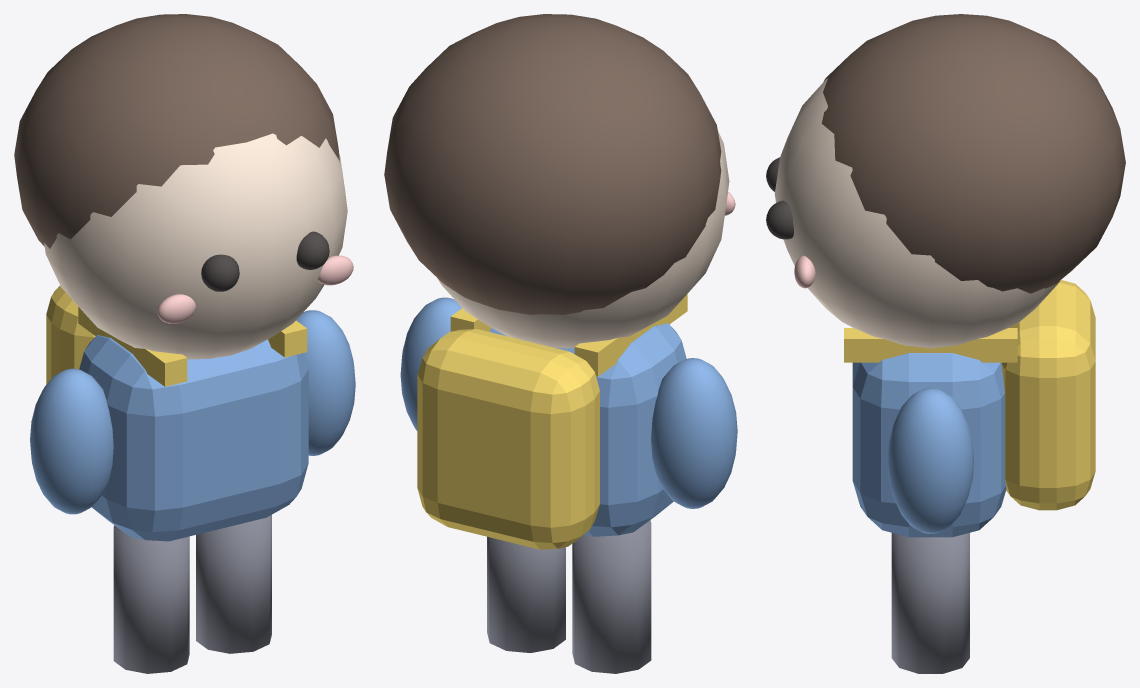
Rendered from player.glb.
The picture shows the model from 3 angles, left to right: view 1: azimuth 30°, elevation 25°; view 2: azimuth 150°, elevation 25°; view 3: azimuth 270°, elevation 25°; orthographic projection. The views are drawn at different scales.
Visible parts, largest first — view 1: player; view 2: player; view 3: player.
Part boxes in pixels (box(x1,y1,x2,y2)): player: box(14, 14, 355, 673); player: box(384, 14, 737, 673); player: box(766, 14, 1125, 673).
Size of the model in its own units: 0.84 by 1.54 by 0.83.
